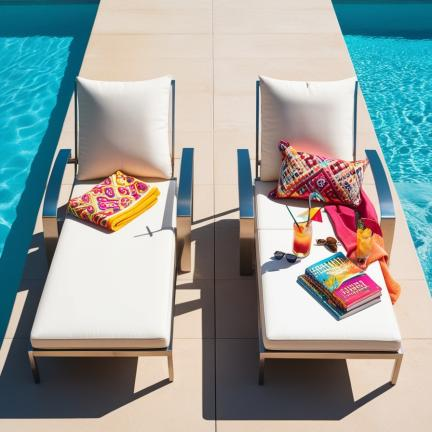occupied chair: (237, 73, 405, 388), (29, 76, 193, 382)
